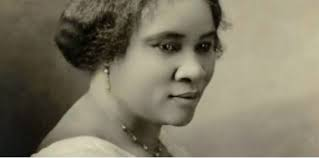black_female: (54, 1, 231, 130)
